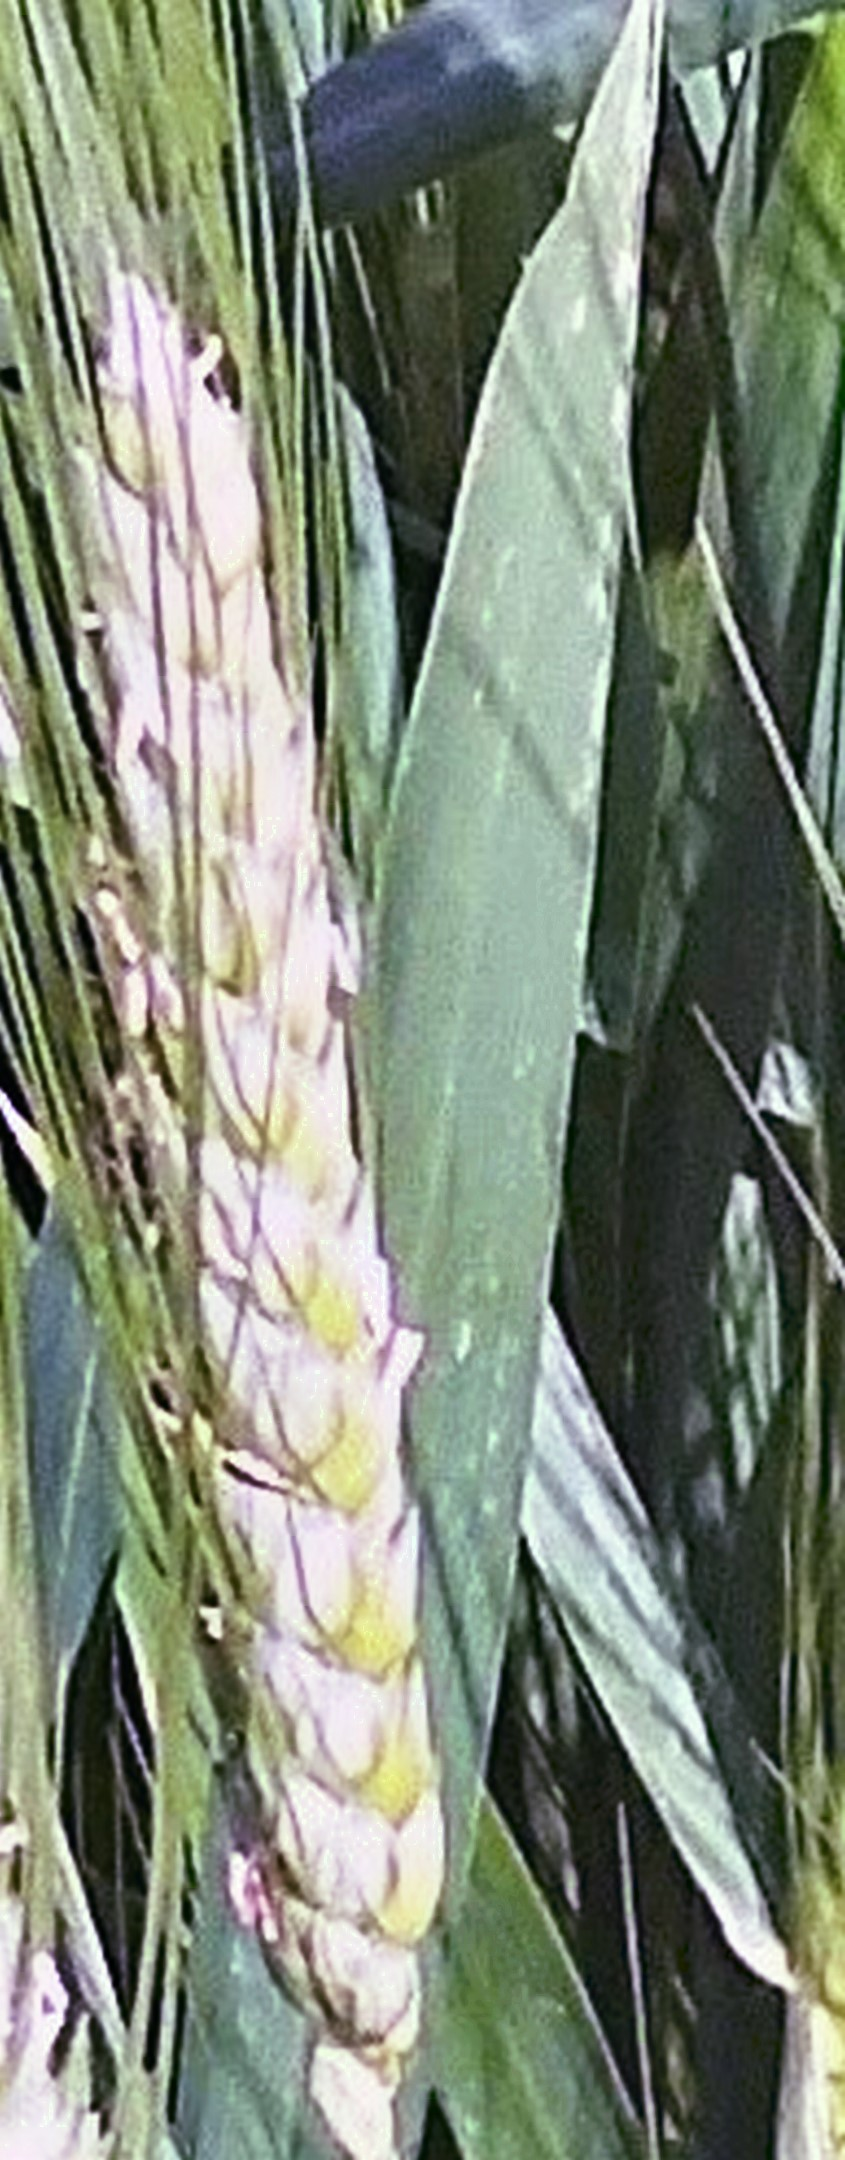Healthy Wheat: (79, 322, 511, 1997)
